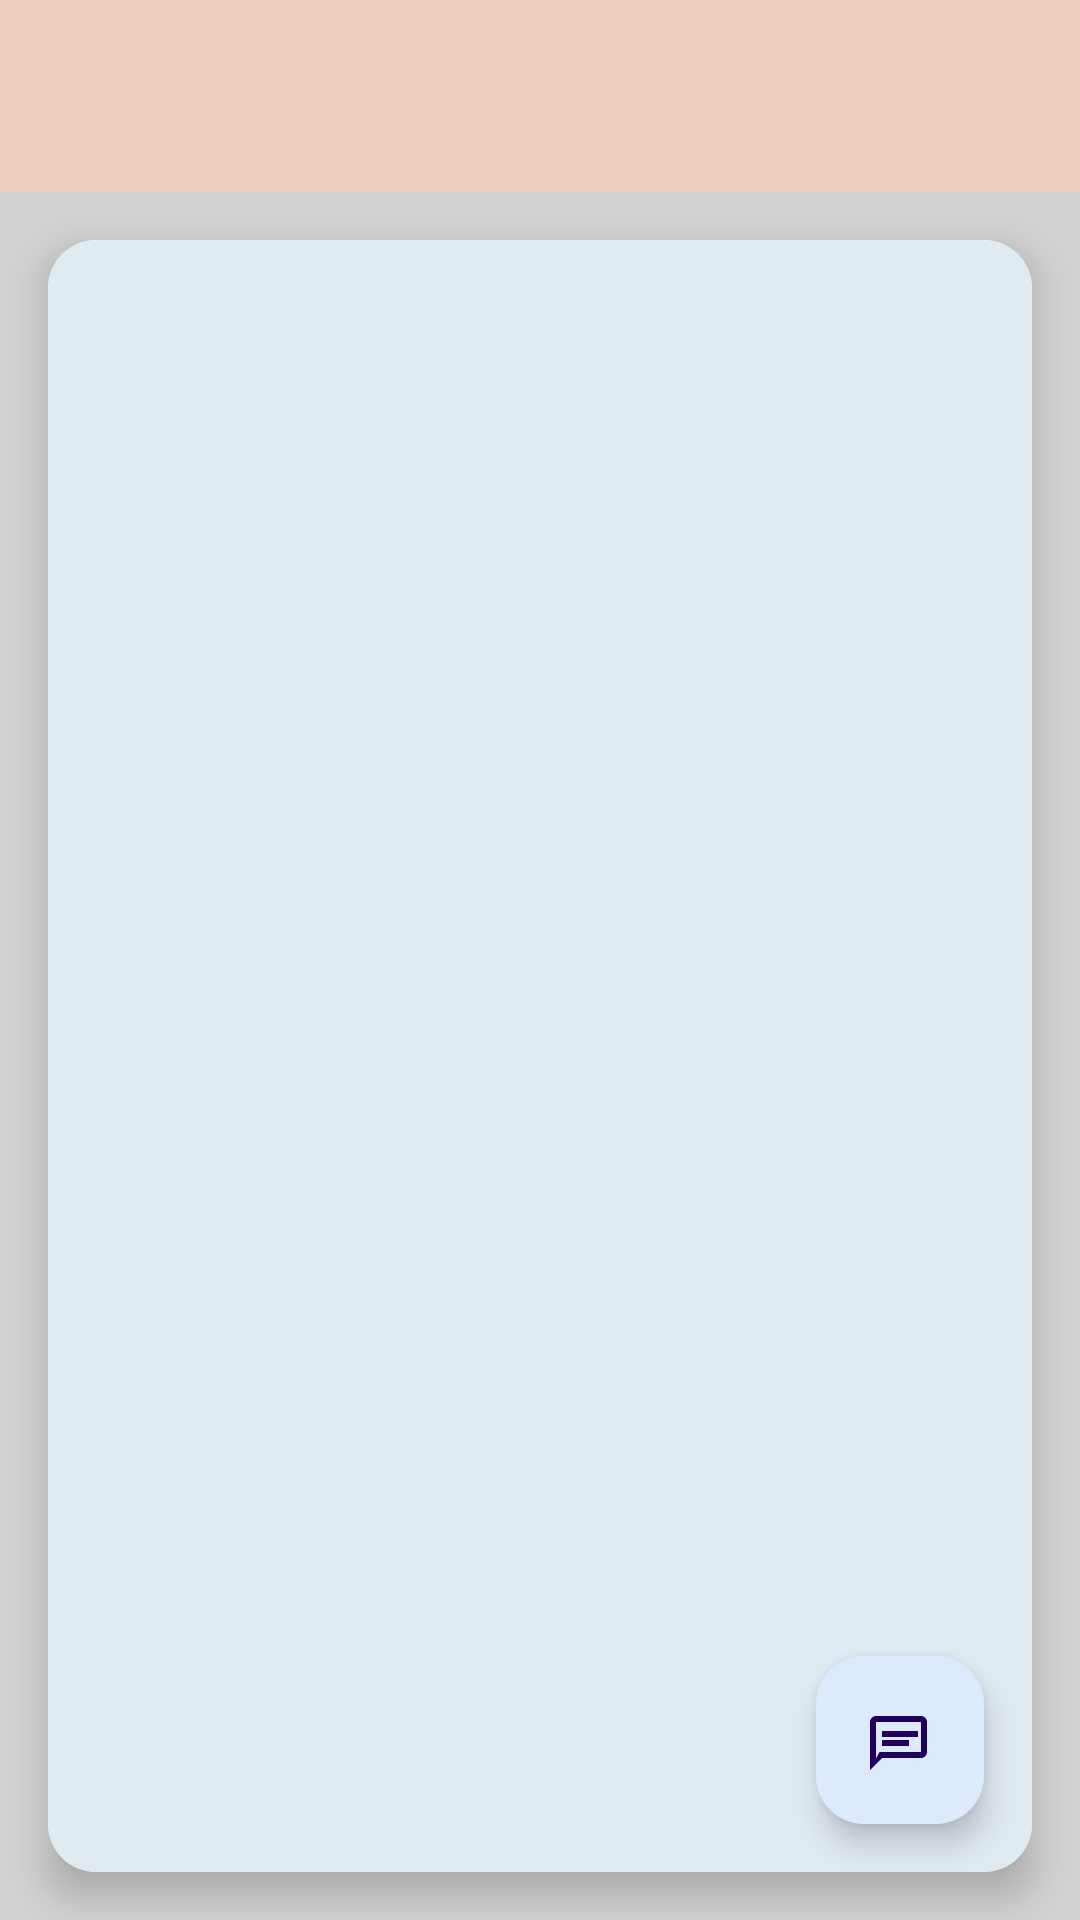

Screen size 1080x1920. Icon name, then its center in pixels as (x=x, y=y):
New Message: (x=900, y=1740)
